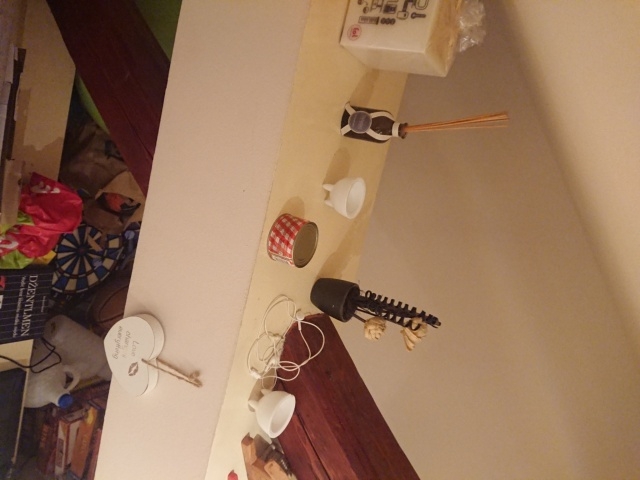Podravka Luncheon Meat 150g: (265, 210, 321, 270)
